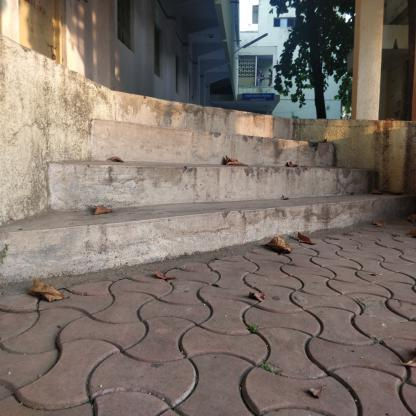stairs: (72, 144, 293, 286)
